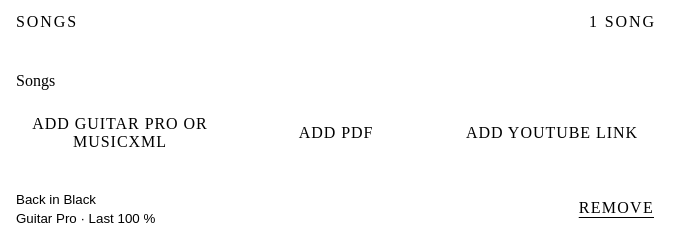
Test: SongsScreen › removes a song after confirming
Expected: the heading "Songs" is shown, [16,72,55,89]
Click the button with aria-label "Remove Back in Black" at (616, 208), box [577,192,656,224]
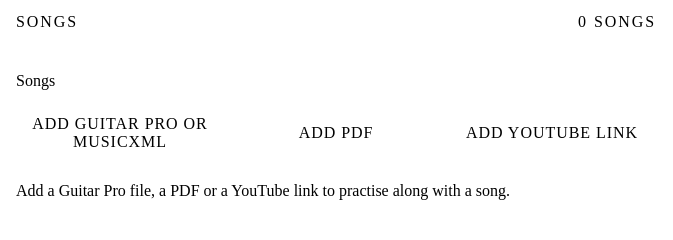
Now the button "Back in Black" is gone
